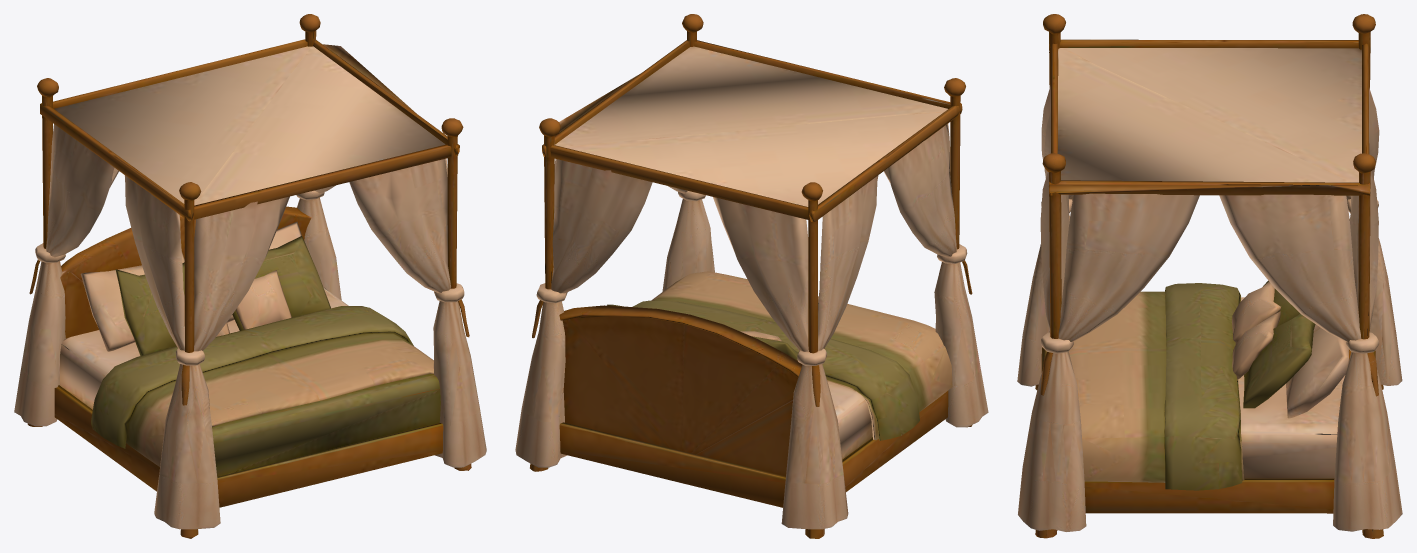
File: bed.canopy.glb
3 views of the same model, side by side, from view 1: azimuth 30°, elevation 25°; view 2: azimuth 150°, elevation 25°; view 3: azimuth 270°, elevation 25° (orthographic). The views are drawn at different scales.
Visible parts, largest first — view 1: geometry_0; view 2: geometry_0; view 3: geometry_0.
Boxes of the visible parts, bbox=[...] form: geometry_0: bbox=[14, 14, 486, 538]; geometry_0: bbox=[515, 14, 988, 538]; geometry_0: bbox=[1017, 14, 1402, 538].
Bounding box in the file's own units: 0.9714 × 1 × 0.9261.
1 material, 1 textured.
